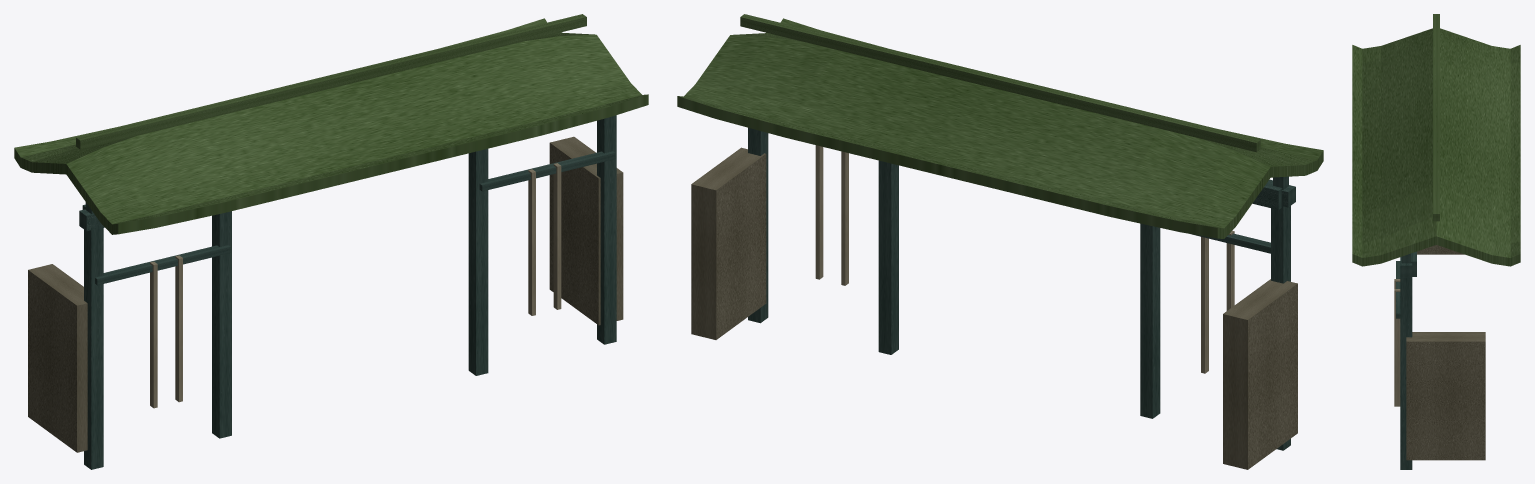
The picture shows the model from 3 angles, left to right: view 1: azimuth 30°, elevation 25°; view 2: azimuth 150°, elevation 25°; view 3: azimuth 270°, elevation 25°; orthographic projection. The views are drawn at different scales.
Visible parts, largest first — view 1: garrison_part_0001, garrison_part_0000, garrison_part_0002; view 2: garrison_part_0001, garrison_part_0000, garrison_part_0002; view 3: garrison_part_0001, garrison_part_0000, garrison_part_0002.
Boxes of the visible parts, box(x1,y1,x2,y2) form: garrison_part_0001: box(14, 18, 648, 234); garrison_part_0000: box(28, 115, 623, 469); garrison_part_0002: box(76, 14, 615, 408); garrison_part_0001: box(677, 18, 1323, 238); garrison_part_0000: box(691, 127, 1297, 469); garrison_part_0002: box(740, 14, 1270, 373); garrison_part_0001: box(1352, 28, 1520, 277); garrison_part_0000: box(1400, 245, 1485, 469); garrison_part_0002: box(1394, 14, 1439, 406).
Size of the model in its own units: 758 by 414 by 250.
